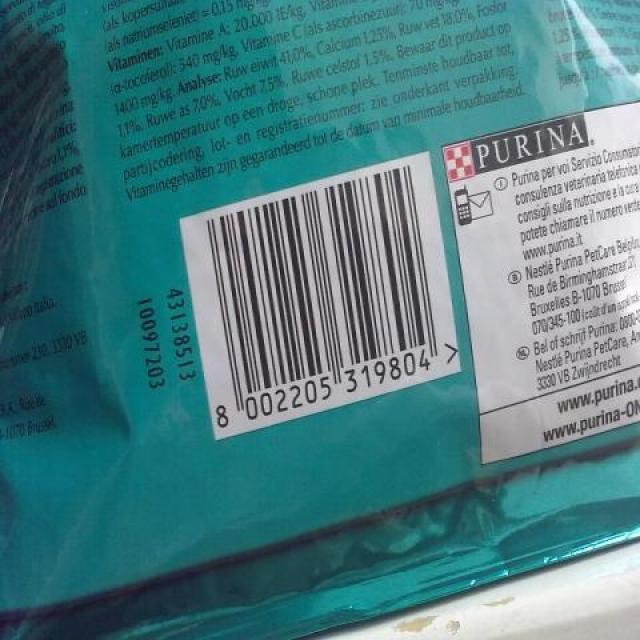Barcode: (179, 151, 462, 441)
